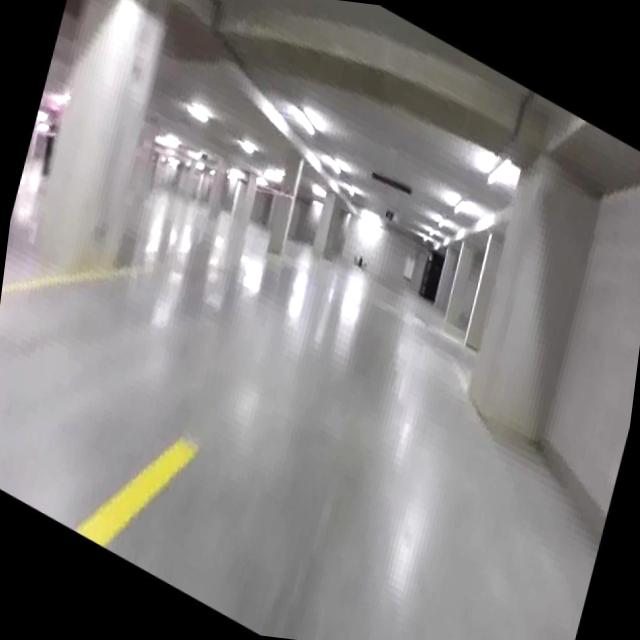drone: (347, 245, 372, 278)
